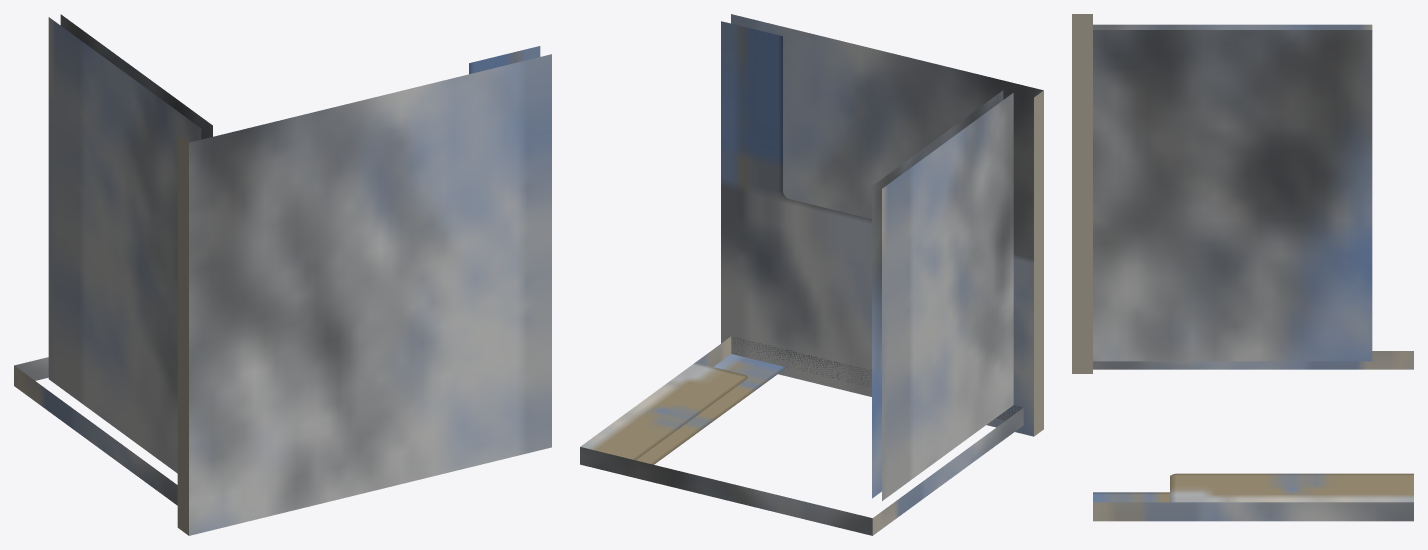
File: section-2.obj
The picture shows the model from 3 angles, left to right: view 1: azimuth 30°, elevation 25°; view 2: azimuth 150°, elevation 25°; view 3: azimuth 270°, elevation 25°; orthographic projection. The views are drawn at different scales.
Size of the model in its own units: 0.92 by 0.953 by 0.82.
